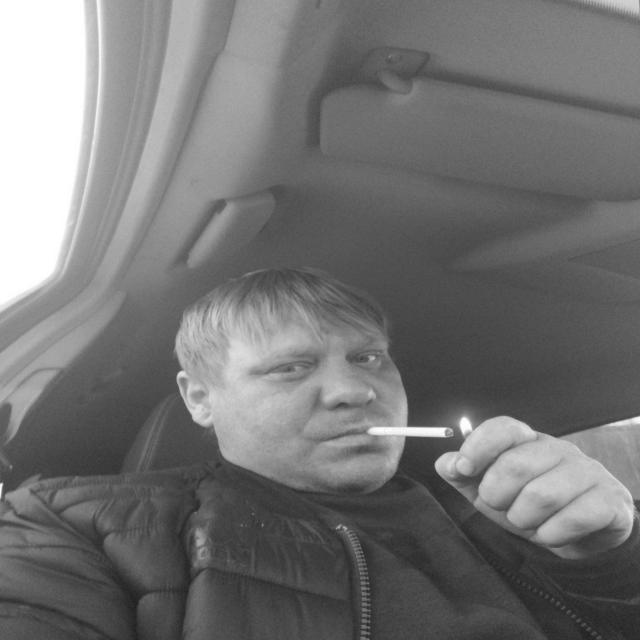Cigarette: (355, 420, 467, 444)
